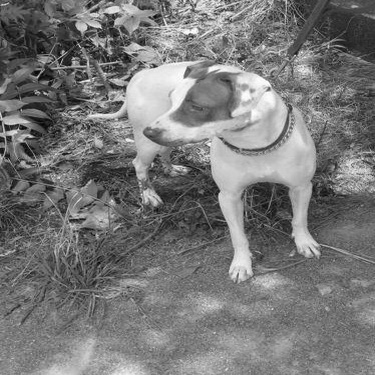dog: (82, 46, 325, 289)
